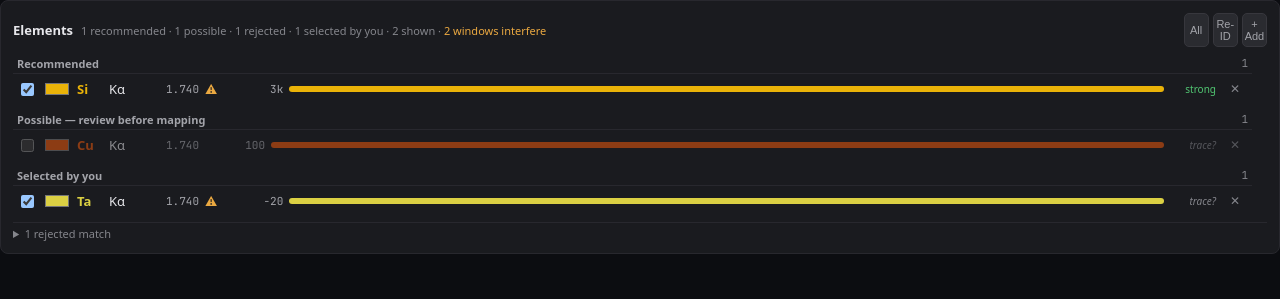
Test: ElementList › separates recommendations, possibilities, manual additions, and rejected matches
This screenshot has width=1280, height=299.
expect the text "1 recommended · 1 possible · 1 rejected · 1 selected by you · 2 shown" is shown: met, box [81,22,435,38]
expect the heading named "Recommended: 1" is shown: met, box [13,53,1252,74]
Click the heading "1 rejected match" at (62, 234), box [13,226,111,241]
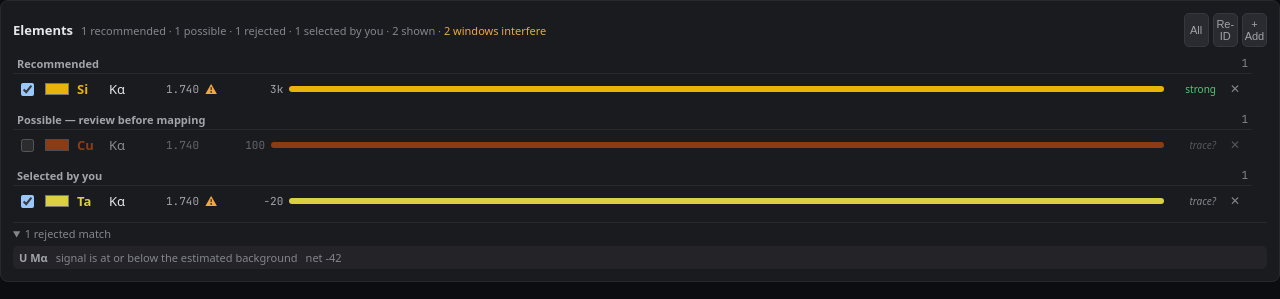
expect the list named "Rejected element matches" reads "U Mα signal is at or below the estimated background net -42": met, box [13,246,1267,269]
